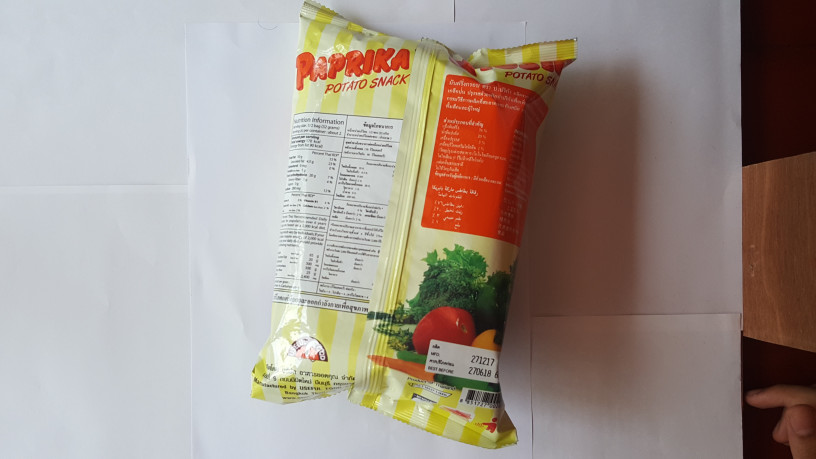paprika: (253, 1, 604, 445)
